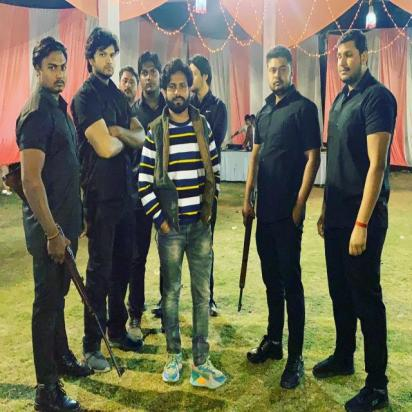Gun: (1, 165, 126, 379), (237, 189, 257, 314)
